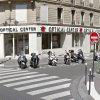Crosswalk: (2, 65, 71, 100)
